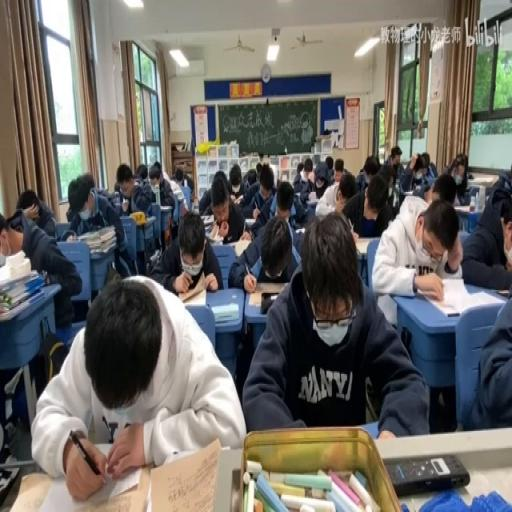calculator: (147, 437, 223, 509), (418, 276, 502, 317), (247, 283, 288, 309), (76, 224, 114, 242), (210, 301, 238, 323), (159, 202, 173, 240), (181, 286, 206, 306), (354, 236, 374, 256), (234, 235, 252, 256), (90, 244, 115, 258), (453, 202, 475, 212), (470, 174, 495, 182), (170, 186, 184, 200), (206, 233, 222, 245), (200, 213, 214, 225), (149, 248, 159, 263), (305, 196, 319, 205), (143, 214, 155, 224), (243, 216, 256, 225), (203, 222, 213, 233), (192, 200, 198, 214), (294, 228, 306, 234), (402, 189, 414, 194), (294, 192, 300, 198)
paper: (33, 273, 243, 501), (240, 208, 419, 436), (0, 199, 82, 331), (66, 171, 132, 280), (148, 208, 222, 294), (459, 175, 512, 291), (338, 166, 392, 236), (266, 176, 304, 245), (398, 148, 434, 203), (142, 162, 177, 215), (444, 154, 470, 204), (114, 162, 140, 212), (382, 144, 404, 182), (226, 164, 246, 204), (291, 156, 311, 194), (1, 223, 24, 255), (491, 189, 511, 219), (330, 155, 348, 186), (362, 155, 380, 183), (197, 185, 212, 215), (338, 182, 354, 206), (242, 166, 258, 186), (134, 163, 148, 185), (498, 169, 511, 192), (179, 175, 193, 196), (173, 165, 184, 185), (427, 160, 437, 178), (420, 152, 430, 168), (324, 155, 334, 169), (260, 154, 270, 165), (256, 162, 262, 175), (113, 182, 119, 193)
person: (384, 452, 470, 494), (0, 462, 21, 506), (490, 286, 509, 296)
